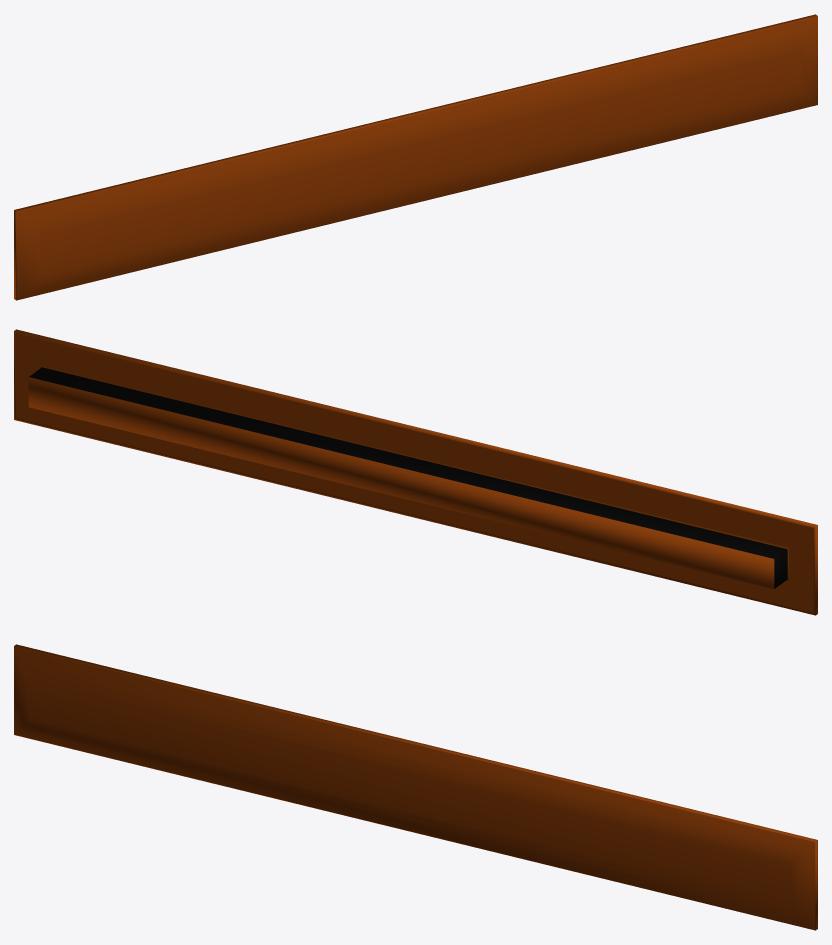
File: Wall Supports.fbx
3 views of the same model, one above another, from view 1: azimuth 30°, elevation 25°; view 2: azimuth 150°, elevation 25°; view 3: azimuth 330°, elevation 25° (orthographic).
Visible parts, largest first — view 1: Cube.001; view 2: Cube.001; view 3: Cube.001.
Part boxes in pixels (left/top/right/bottom): Cube.001: left=14, top=14, right=817, bottom=300; Cube.001: left=14, top=329, right=817, bottom=615; Cube.001: left=14, top=644, right=817, bottom=930.
Bounding box in the file's own units: 200 × 21.2 × 8.97.
